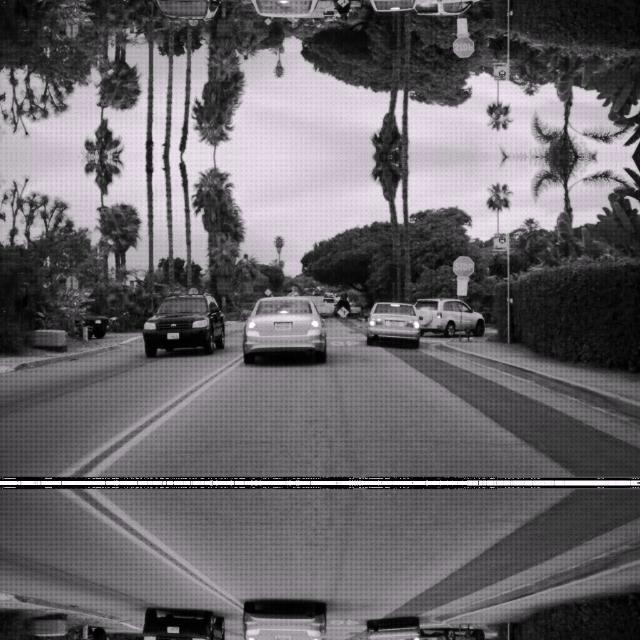stop: (452, 254, 473, 276), (452, 36, 473, 58)
